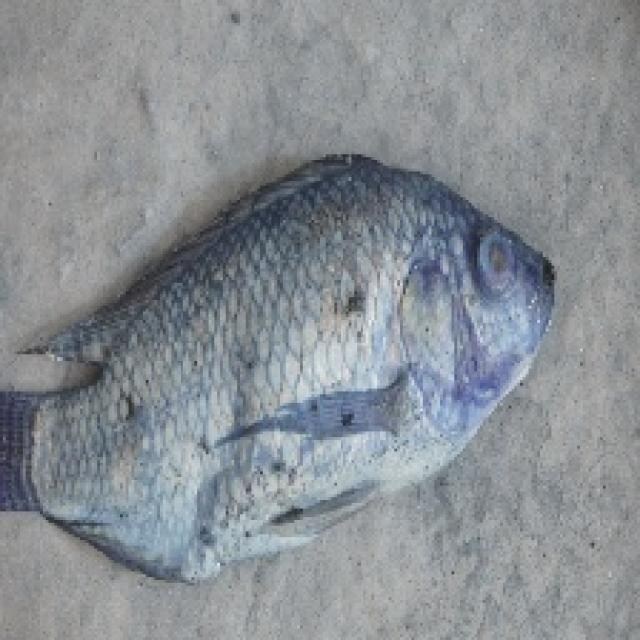Non-Fresh: (19, 168, 582, 552)
